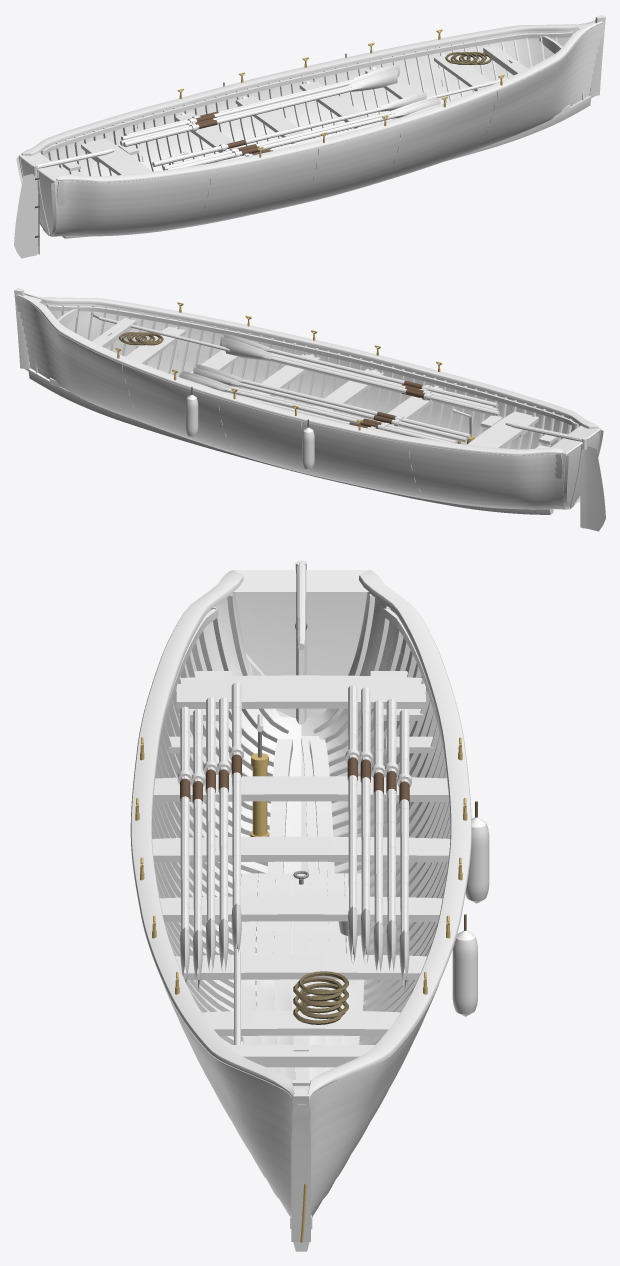
File: boat_complete.glb
The picture shows the model from 3 angles, top to bottom: view 1: azimuth 30°, elevation 25°; view 2: azimuth 150°, elevation 25°; view 3: azimuth 270°, elevation 25°; orthographic projection. The views are drawn at different scales.
Visible parts, largest first — view 1: Planking_Clinker, Keelson_Gunwale, Thwarts_Benches, Frames, Structure_Details, Rudder, Keel_Stem_Sternpost, Oar_P1, Oar_S1, Oar_S3, Oar_P4, Transom (+7 smaller); view 2: Planking_Clinker, Keelson_Gunwale, Thwarts_Benches, Frames, Keel_Stem_Sternpost, Structure_Details, Rudder, Oar_S1, Oar_P2, Oar_S5, Oar_P4, Oar_P1 (+10 smaller); view 3: Thwarts_Benches, Keelson_Gunwale, Planking_Clinker, Frames, Floorboards, Keel_Stem_Sternpost, Transom, Fittings, Fenders, Oar_P5, Oar_S4, Oar_P2 (+11 smaller).
Part boxes in pixels (bbox=[...]): Planking_Clinker: bbox=[19, 22, 604, 236]; Keelson_Gunwale: bbox=[21, 20, 602, 182]; Thwarts_Benches: bbox=[62, 54, 490, 175]; Frames: bbox=[41, 30, 584, 176]; Structure_Details: bbox=[44, 32, 572, 155]; Rudder: bbox=[14, 148, 114, 258]; Keel_Stem_Sternpost: bbox=[20, 14, 605, 238]; Oar_P1: bbox=[123, 72, 397, 146]; Oar_S1: bbox=[152, 92, 426, 166]; Oar_S3: bbox=[166, 99, 440, 169]; Oar_P4: bbox=[121, 66, 395, 140]; Transom: bbox=[16, 155, 56, 236]; Planking_Clinker: bbox=[15, 295, 600, 509]; Keelson_Gunwale: bbox=[17, 293, 598, 455]; Thwarts_Benches: bbox=[126, 327, 557, 448]; Frames: bbox=[35, 303, 578, 449]; Keel_Stem_Sternpost: bbox=[14, 287, 599, 514]; Structure_Details: bbox=[47, 305, 575, 428]; Rudder: bbox=[505, 421, 605, 531]; Oar_S1: bbox=[225, 341, 499, 416]; Oar_P2: bbox=[193, 367, 467, 442]; Oar_S5: bbox=[223, 333, 497, 407]; Oar_P4: bbox=[179, 372, 452, 442]; Oar_P1: bbox=[196, 364, 470, 438]; Thwarts_Benches: bbox=[152, 671, 450, 1036]; Keelson_Gunwale: bbox=[130, 570, 471, 1228]; Planking_Clinker: bbox=[163, 570, 439, 1242]; Frames: bbox=[152, 594, 450, 1044]; Floorboards: bbox=[239, 871, 364, 1080]; Keel_Stem_Sternpost: bbox=[223, 570, 379, 1251]; Transom: bbox=[235, 570, 370, 717]; Fittings: bbox=[234, 623, 360, 1044]; Fenders: bbox=[452, 801, 489, 1016]; Oar_P5: bbox=[397, 709, 411, 991]; Oar_S4: bbox=[190, 709, 205, 990]; Oar_P2: bbox=[358, 687, 373, 964].
Bounding box in the file's own units: 7.92 × 1.4 × 2.08.
